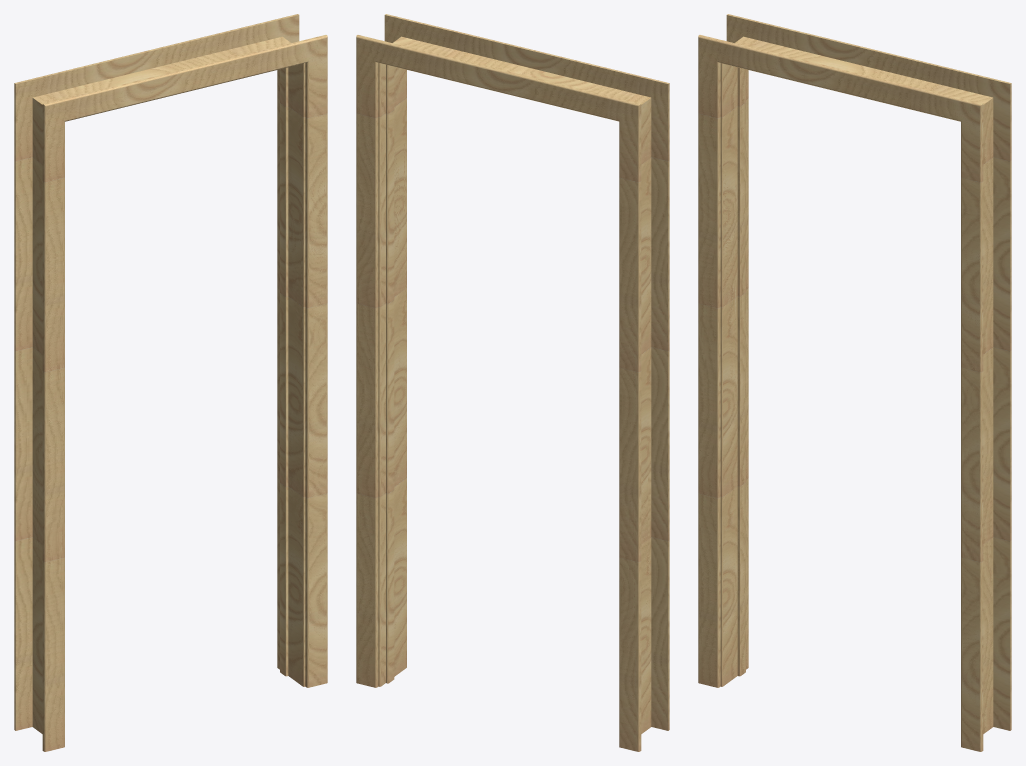
File: original-2.obj
The picture shows the model from 3 angles, left to right: view 1: azimuth 30°, elevation 25°; view 2: azimuth 150°, elevation 25°; view 3: azimuth 330°, elevation 25°; orthographic projection.
Parts seen in each view (by area): view 1: Group2/mesh2/mesh2-geometry#mesh2-geometry; view 2: Group2/mesh2/mesh2-geometry#mesh2-geometry; view 3: Group2/mesh2/mesh2-geometry#mesh2-geometry.
Part boxes in pixels (x1,y1,x2,y2): Group2/mesh2/mesh2-geometry#mesh2-geometry: [14, 14, 327, 751]; Group2/mesh2/mesh2-geometry#mesh2-geometry: [356, 14, 669, 751]; Group2/mesh2/mesh2-geometry#mesh2-geometry: [698, 14, 1011, 751].
Bounding box in the file's own units: 0.8101 × 1.77 × 0.1533.
